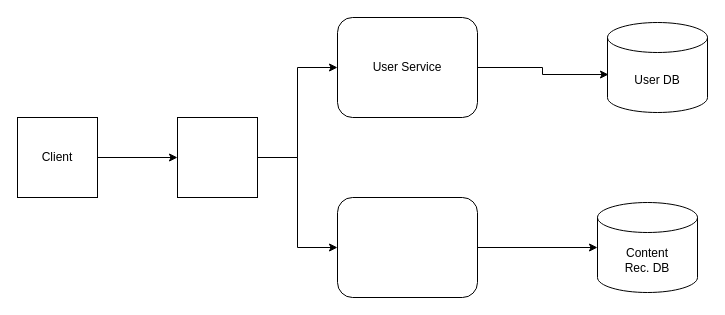
Image size: 725x315. Some labels were removed from this diagram. Here are the shapes that lost their labels. From the top down, the box of each, then its label:
(176, 116, 258, 198): API Gateway
(336, 196, 478, 298): Content Recommendation Service
